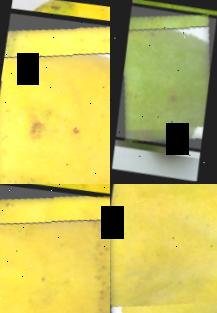PartiallyRipe: (110, 184, 217, 313)
Ripe: (0, 8, 110, 184), (0, 184, 110, 313)
Unripe: (114, 3, 217, 152)
